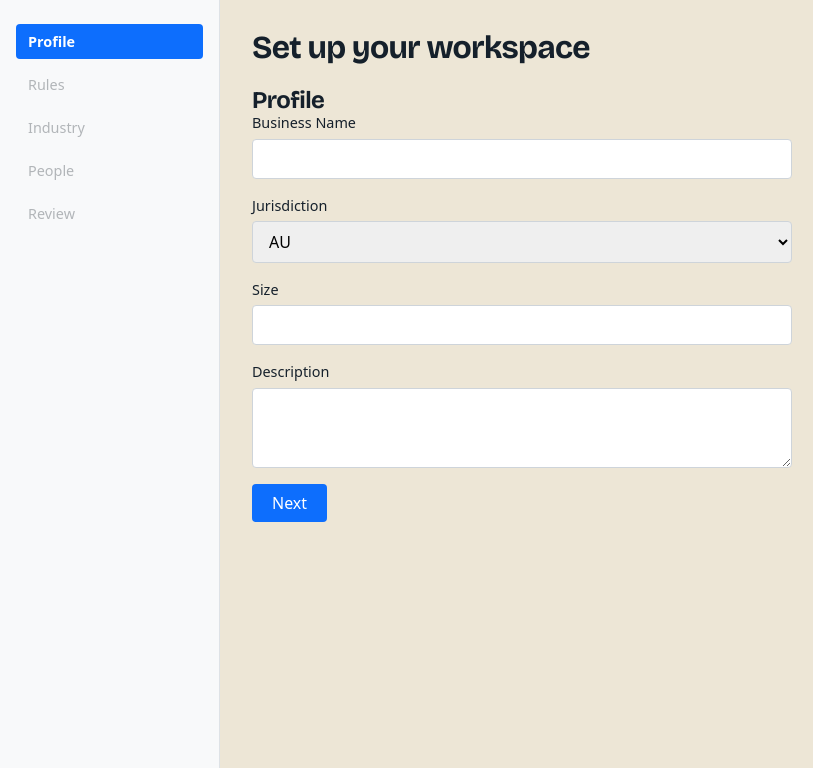
Test: OnboardingWizard › shows "Saving…" then "Saved" after profile submit
The width and height of the screenshot is (813, 768).
// Fill in required profile fields
Type "Acme" into the field labelled "Business Name".
click(522, 159); type("Acme")  # box [252,139,792,179]
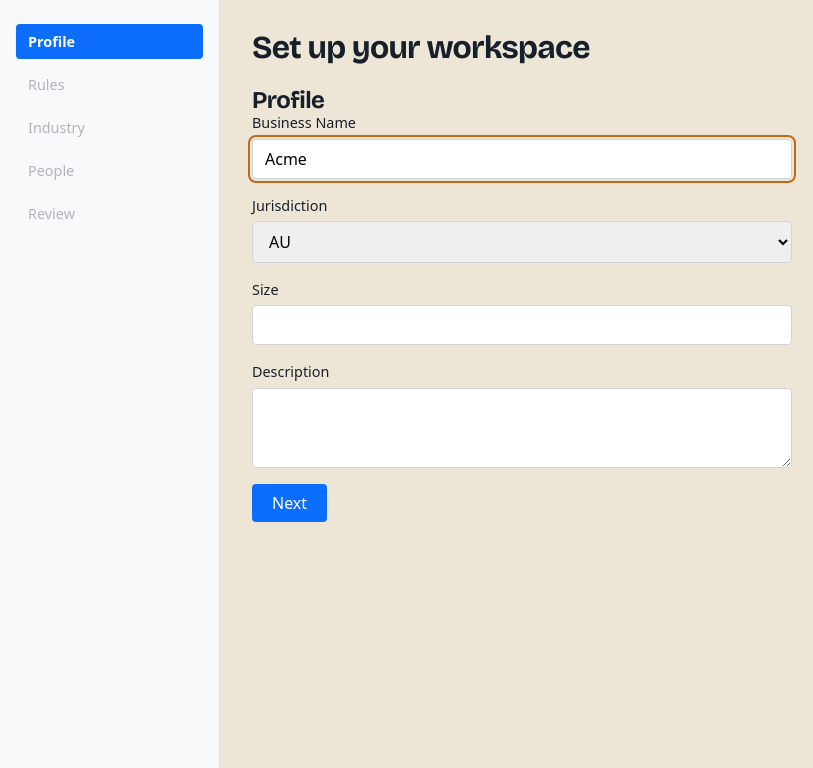
Select "AU" in the dropdown labelled "Jurisdiction" at (522, 242), box [252,221,792,263]
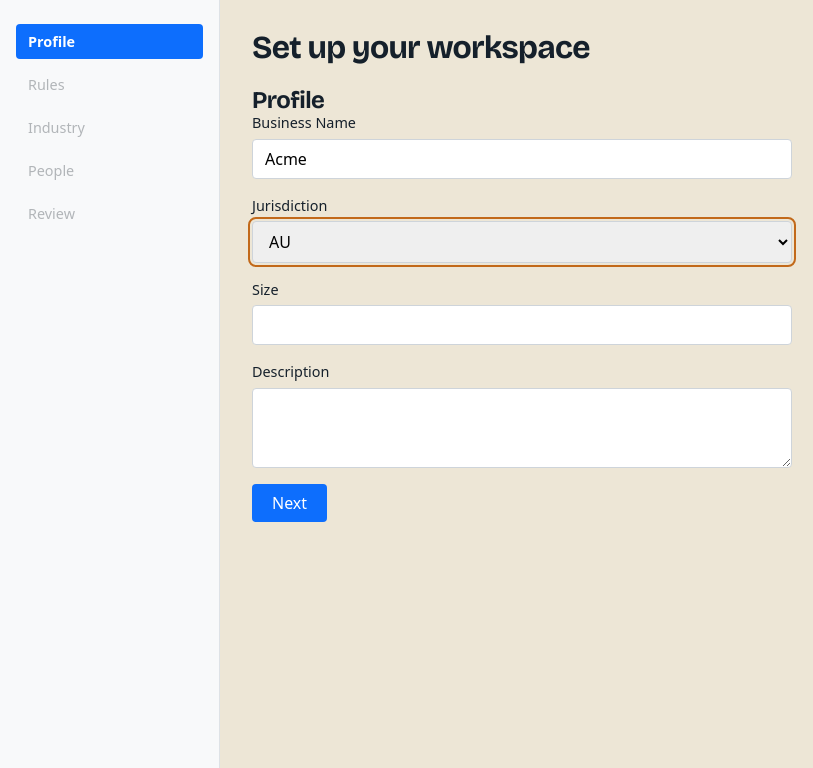
Type "10" into the field labelled "Size".
click(522, 325); type("10")  # box [252,305,792,345]
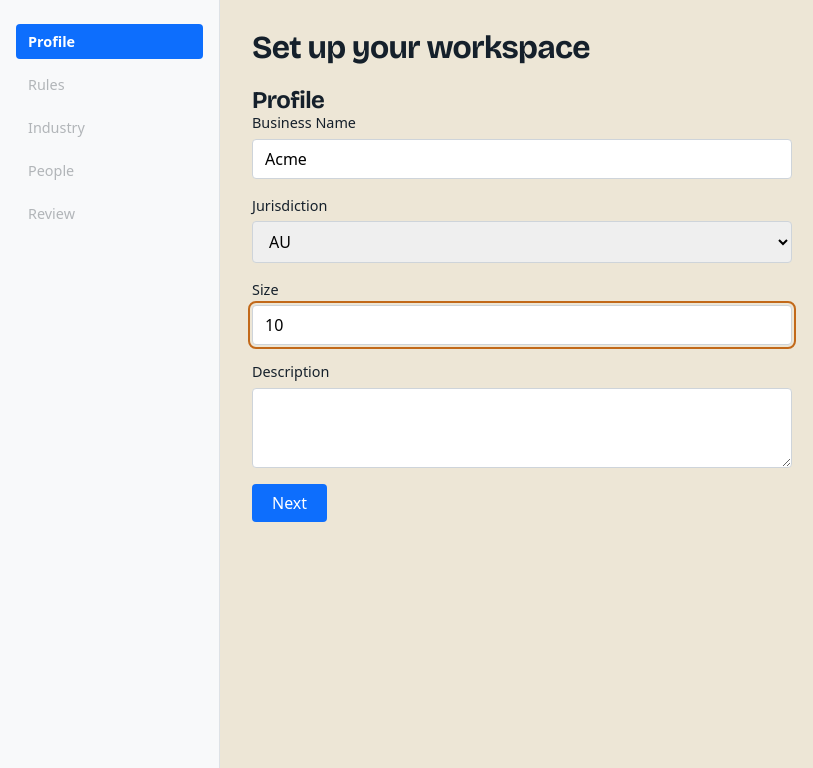
Click the button "Next".
click(290, 503)  # box [252,484,327,522]
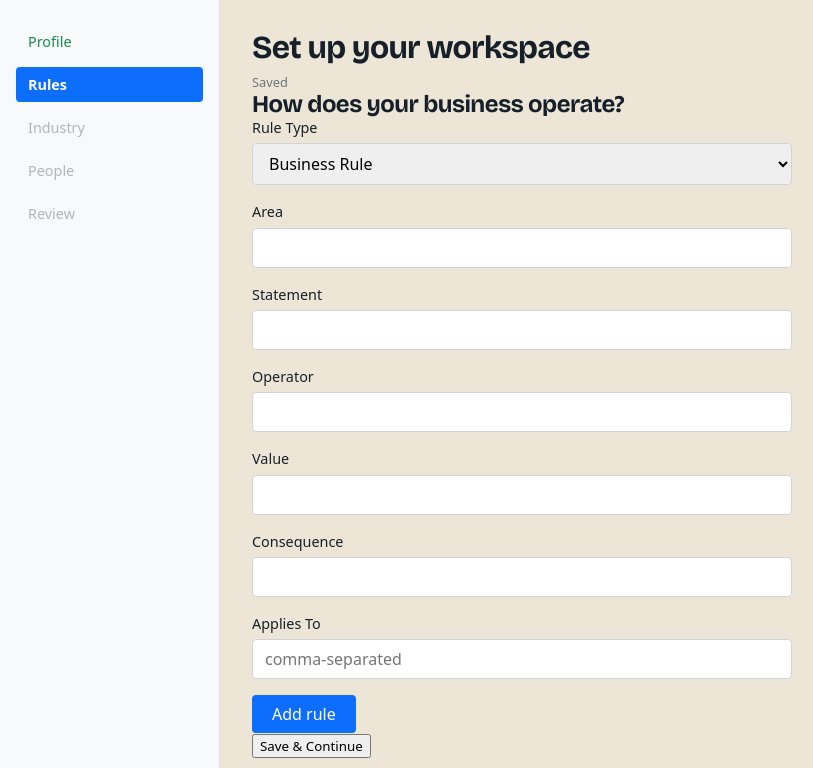
Expected: the text "Saved" is shown, [252,73,288,91]
